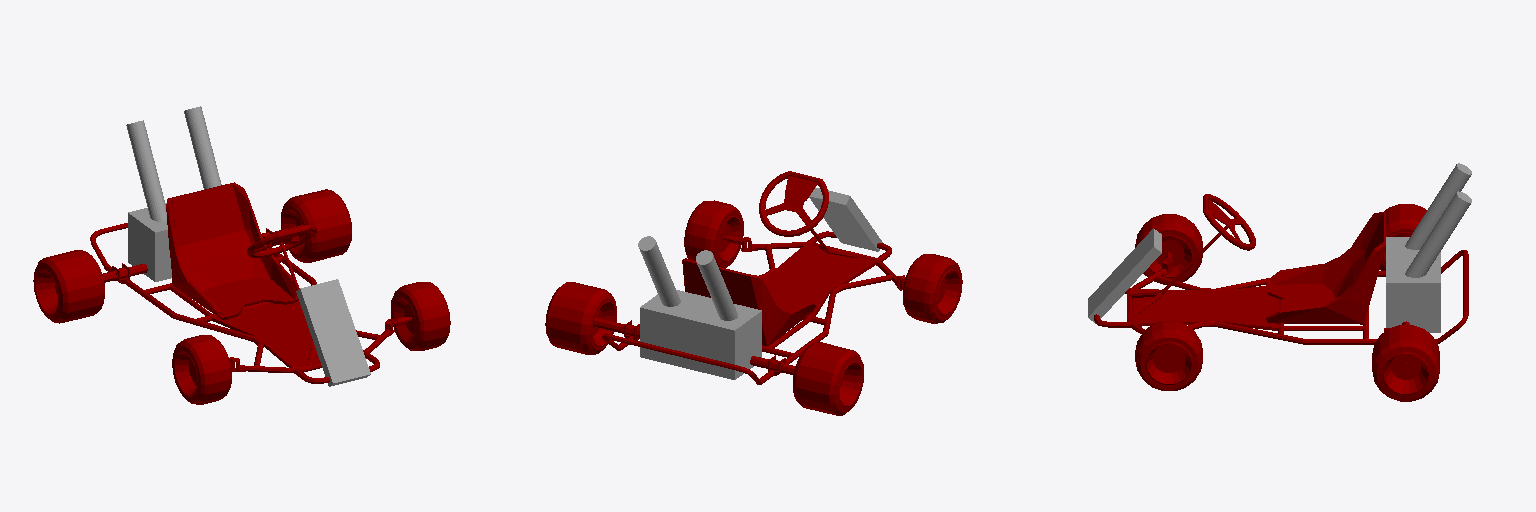
File: showoff.obj
3 views of the same model, side by side, from view 1: azimuth 30°, elevation 25°; view 2: azimuth 150°, elevation 25°; view 3: azimuth 270°, elevation 25° (orthographic).
Parts seen in each view (by area): view 1: Chassis_Untitled, Front_Cube.002, BR_Wheel_Untitled.001, BL_Wheel_Untitled.005, FR_Wheel_Untitled.002, FL_Wheel_Untitled.007, Back_Cube.001, Right_Cylinder, Left_Cylinder.001, Steering_Wheel_Untitled.009; view 2: Chassis_Untitled, Back_Cube.001, BR_Wheel_Untitled.001, BL_Wheel_Untitled.005, FR_Wheel_Untitled.002, FL_Wheel_Untitled.007, Steering_Wheel_Untitled.009, Front_Cube.002, Right_Cylinder, Left_Cylinder.001, RearAxle_Untitled.008; view 3: Chassis_Untitled, BL_Wheel_Untitled.005, Back_Cube.001, FL_Wheel_Untitled.007, FR_Wheel_Untitled.002, Front_Cube.002, Left_Cylinder.001, Steering_Wheel_Untitled.009, Right_Cylinder, BR_Wheel_Untitled.001.
Part boxes in pixels (left/top/right/bottom): Chassis_Untitled: left=90, top=182, right=394, bottom=383; Front_Cube.002: left=296, top=279, right=370, bottom=386; BR_Wheel_Untitled.001: left=33, top=250, right=104, bottom=323; BL_Wheel_Untitled.005: left=281, top=189, right=351, bottom=262; FR_Wheel_Untitled.002: left=172, top=335, right=231, bottom=404; FL_Wheel_Untitled.007: left=391, top=282, right=450, bottom=350; Back_Cube.001: left=128, top=203, right=171, bottom=281; Right_Cylinder: left=126, top=120, right=166, bottom=221; Left_Cylinder.001: left=184, top=106, right=221, bottom=189; Steering_Wheel_Untitled.009: left=247, top=225, right=316, bottom=289; Chassis_Untitled: left=602, top=231, right=905, bottom=384; Back_Cube.001: left=640, top=290, right=761, bottom=379; BR_Wheel_Untitled.001: left=793, top=342, right=863, bottom=415; BL_Wheel_Untitled.005: left=545, top=282, right=616, bottom=354; FR_Wheel_Untitled.002: left=903, top=254, right=962, bottom=323; FL_Wheel_Untitled.007: left=684, top=200, right=743, bottom=267; Steering_Wheel_Untitled.009: left=759, top=171, right=828, bottom=249; Front_Cube.002: left=809, top=187, right=882, bottom=251; Right_Cylinder: left=696, top=250, right=737, bottom=320; Left_Cylinder.001: left=638, top=236, right=680, bottom=306; RearAxle_Untitled.008: left=593, top=317, right=794, bottom=374; Chassis_Untitled: left=1094, top=212, right=1468, bottom=344; BL_Wheel_Untitled.005: left=1372, top=325, right=1439, bottom=401; Back_Cube.001: left=1386, top=237, right=1440, bottom=332; FL_Wheel_Untitled.007: left=1135, top=321, right=1202, bottom=390; FR_Wheel_Untitled.002: left=1135, top=214, right=1202, bottom=284; Front_Cube.002: left=1088, top=228, right=1161, bottom=323; Left_Cylinder.001: left=1405, top=191, right=1471, bottom=277; Steering_Wheel_Untitled.009: left=1163, top=194, right=1255, bottom=291; Right_Cylinder: left=1405, top=163, right=1471, bottom=249; BR_Wheel_Untitled.001: left=1380, top=204, right=1426, bottom=270.
Bounding box in the file's own units: 1.84 × 0.9292 × 2.1.